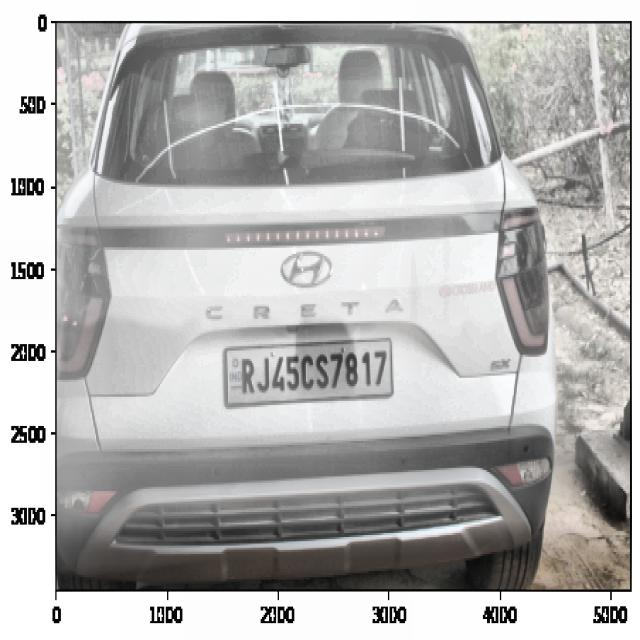license_plate: (234, 345, 394, 406)
